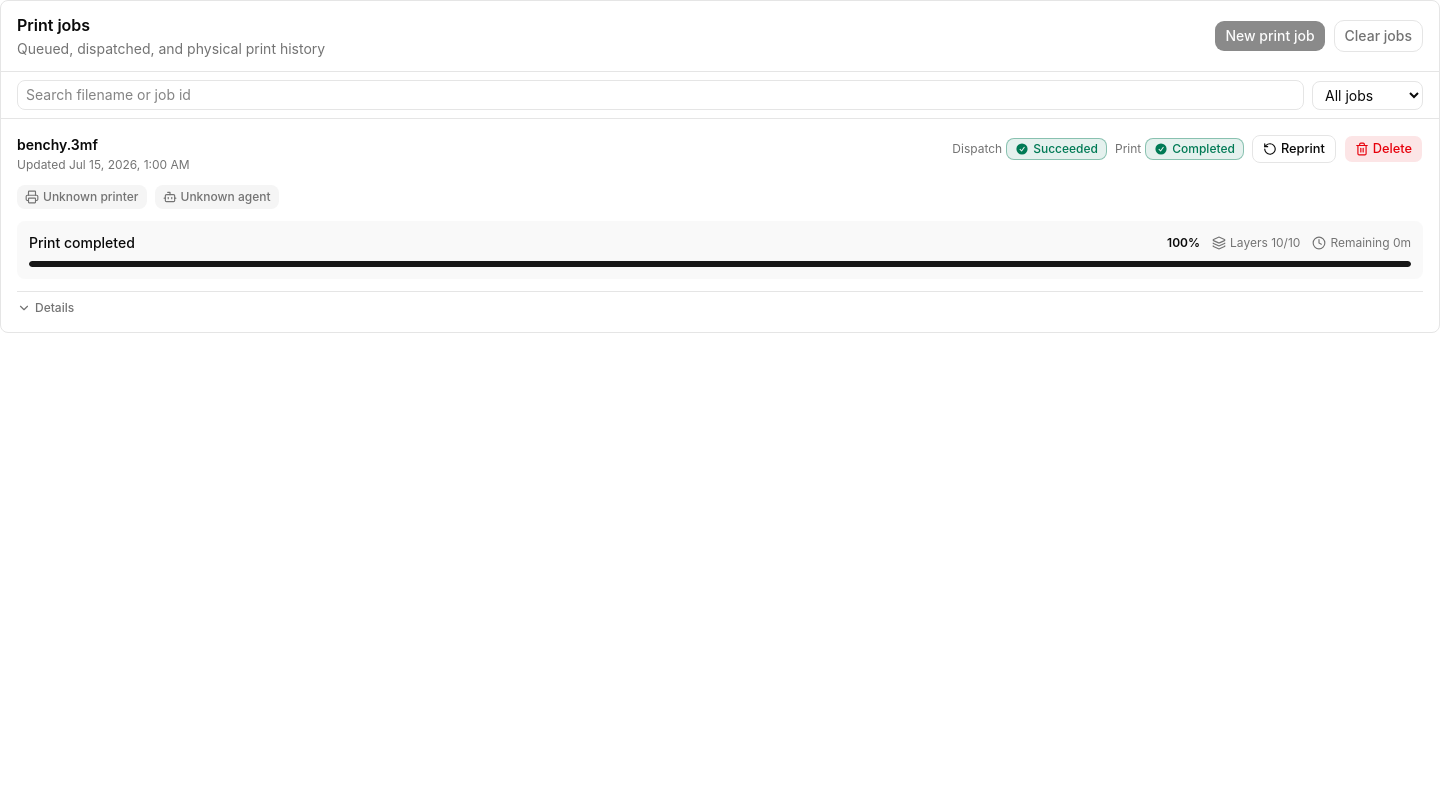
Test: JobHistory rows › keeps structured job details collapsed until requested
Check: the text "Project:" is not shown
Click the heading "Details".
click(46, 308)  # box [17,300,74,316]
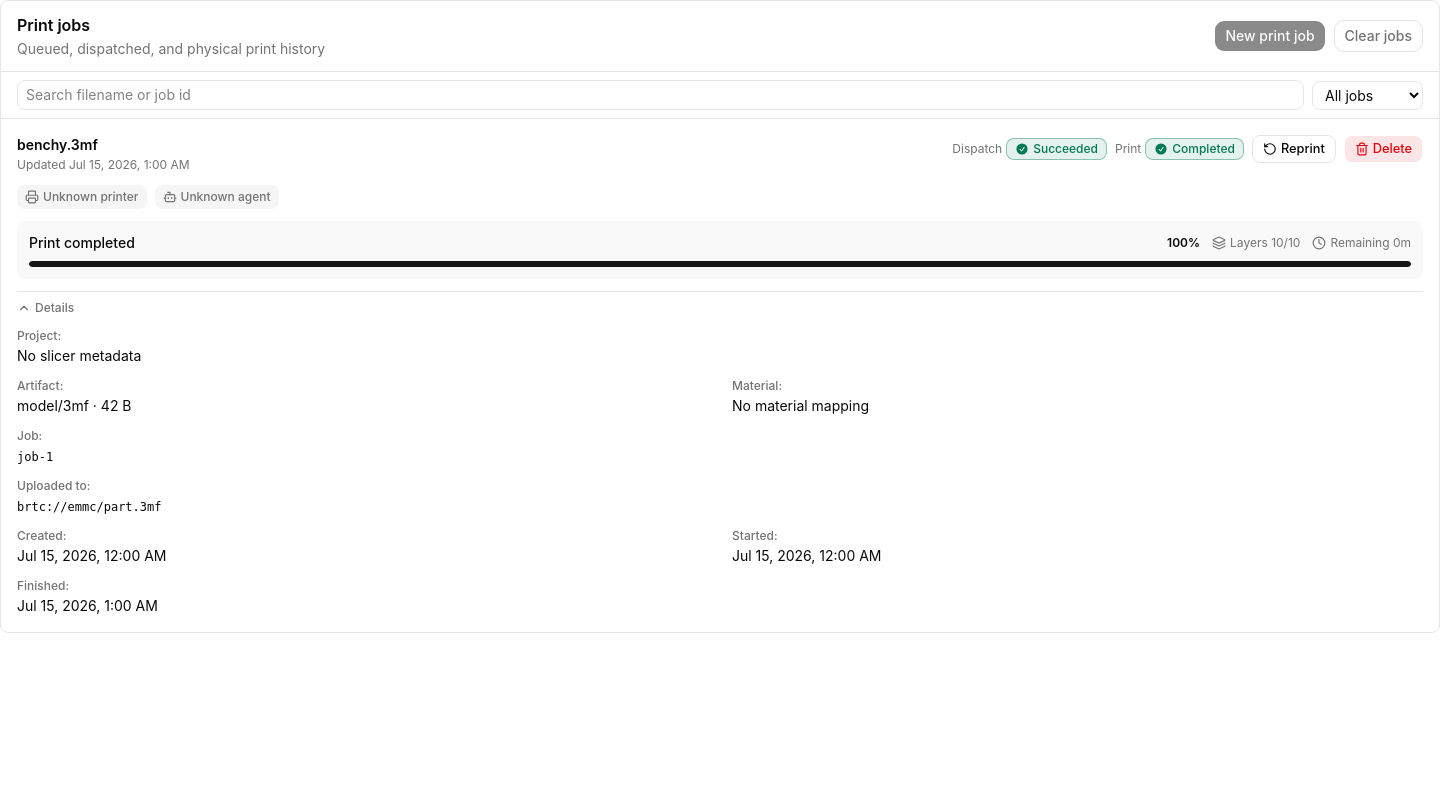
Check: the text "Project:" is shown, box [17,328,61,343]
Check: the text "job-1" is shown, box [17,450,53,464]
